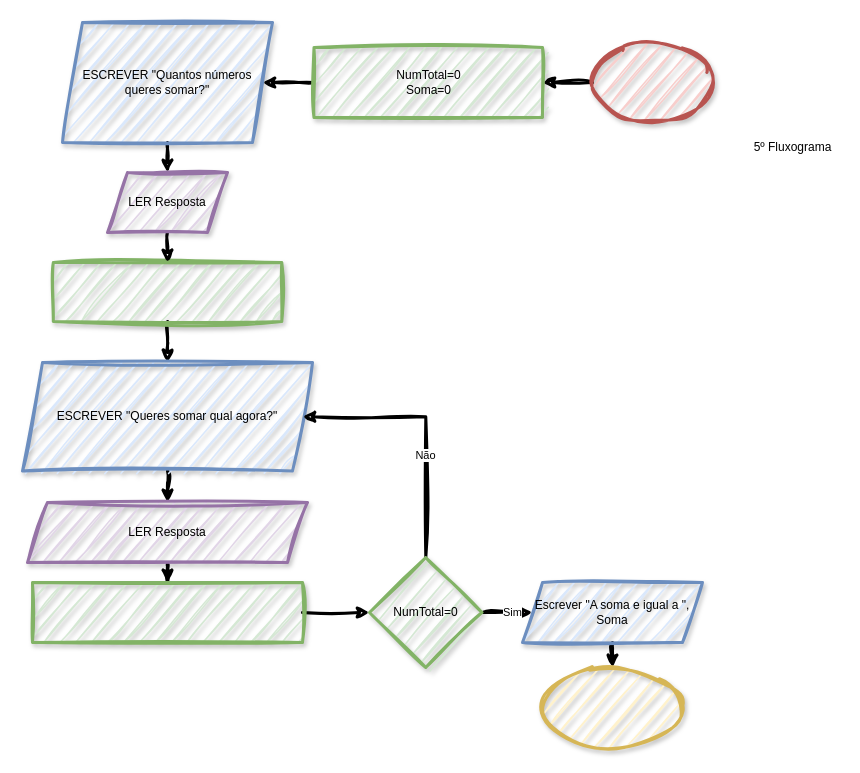
The diagram is 860 pixels wide and 773 high, and some of its shapes have lost their labels. The centre of each missing label's shape, as x and y in pixels:
Fim: the point at 613,709
Inicio: the point at 653,83
NumTotal=NumTotal+Resposta: the point at 168,293
Soma=Soma+Resposta NumTotal=NumTotal-1: the point at 168,613
